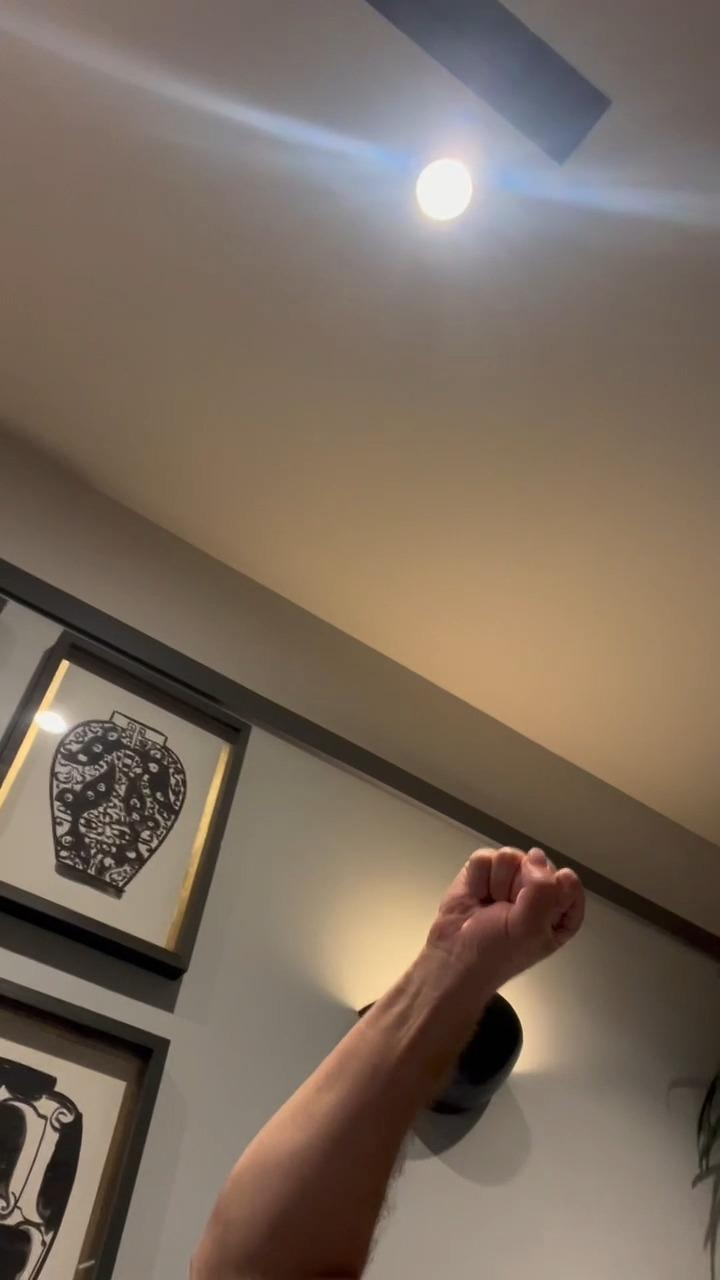Rock: (422, 842, 589, 981)
